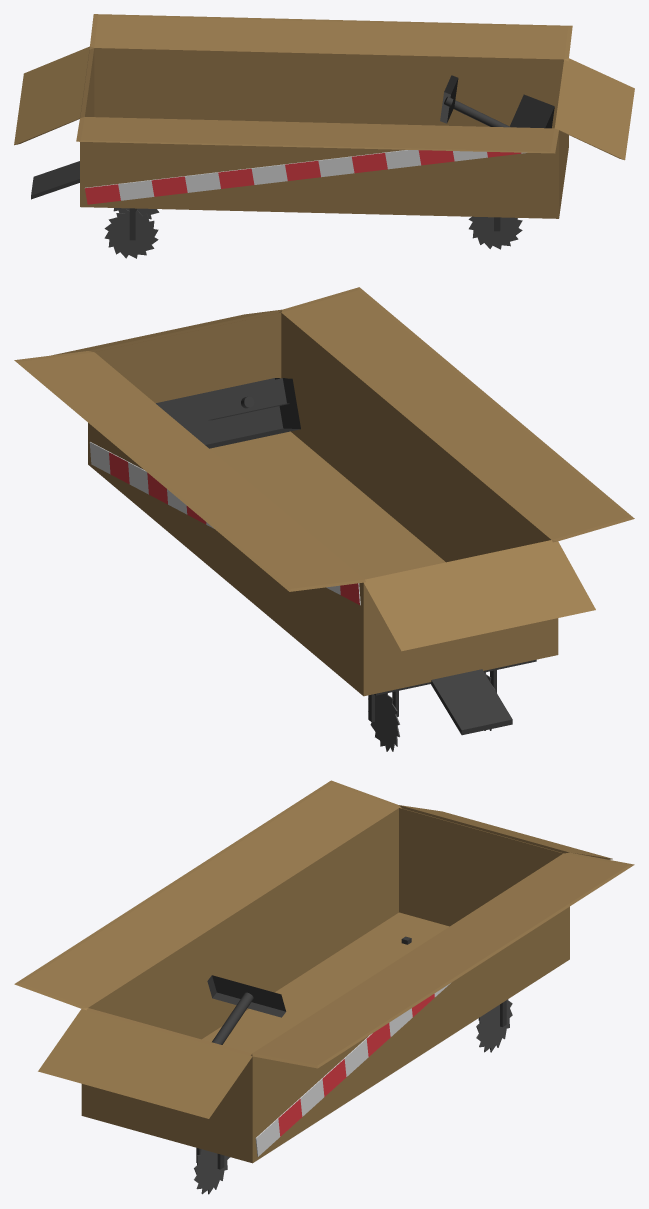
Rendered from boxsaw.gltf.
3 views of the same model, one above another, from view 1: azimuth 30°, elevation 25°; view 2: azimuth 150°, elevation 25°; view 3: azimuth 270°, elevation 25° (orthographic). The views are drawn at different scales.
Parts seen in each view (by area): view 1: Cube.040; view 2: Cube.040; view 3: Cube.040.
Part boxes in pixels (left/top/right/bottom): Cube.040: left=14, top=14, right=634, bottom=258; Cube.040: left=14, top=287, right=634, bottom=751; Cube.040: left=14, top=780, right=634, bottom=1194.
Size of the model in its own units: 12.34 by 3.64 by 10.53.
